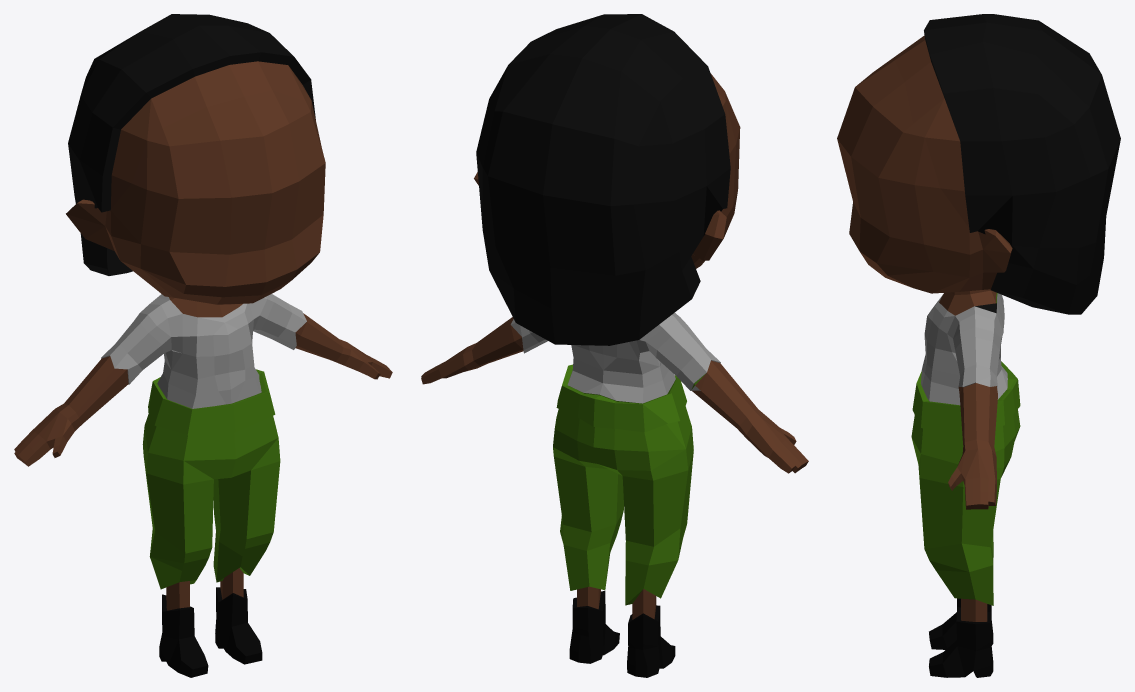
The model's file is Pirata partes separadas.FBX.
3 renders of one model, left to right at view 1: azimuth 30°, elevation 25°; view 2: azimuth 150°, elevation 25°; view 3: azimuth 270°, elevation 25°, orthographic. The views are drawn at different scales.
Visible parts, largest first — view 1: Cabeza, Object, Camiseta, brazos, Botas, piernas; view 2: Cabeza, Object, Camiseta, brazos, Botas, piernas; view 3: Cabeza, Object, Camiseta, brazos, Botas, piernas.
Boxes of the visible parts, x1=… form: Cabeza: x1=66, y1=14, x2=325, y2=317; Object: x1=142, y1=369, x2=280, y2=589; Camiseta: x1=101, y1=294, x2=306, y2=408; brazos: x1=14, y1=313, x2=392, y2=466; Botas: x1=159, y1=587, x2=262, y2=677; piernas: x1=166, y1=568, x2=243, y2=610; Cabeza: x1=474, y1=14, x2=740, y2=345; Object: x1=553, y1=364, x2=693, y2=605; Camiseta: x1=510, y1=312, x2=720, y2=403; brazos: x1=421, y1=317, x2=808, y2=473; Botas: x1=569, y1=590, x2=675, y2=677; piernas: x1=577, y1=586, x2=656, y2=619; Cabeza: x1=837, y1=14, x2=1120, y2=315; Object: x1=911, y1=361, x2=1020, y2=605; Camiseta: x1=921, y1=293, x2=1007, y2=405; brazos: x1=948, y1=383, x2=997, y2=509; Botas: x1=929, y1=598, x2=993, y2=677; piernas: x1=961, y1=598, x2=987, y2=621.
Size of the model in its own units: 1.73 by 2.8 by 1.13.
